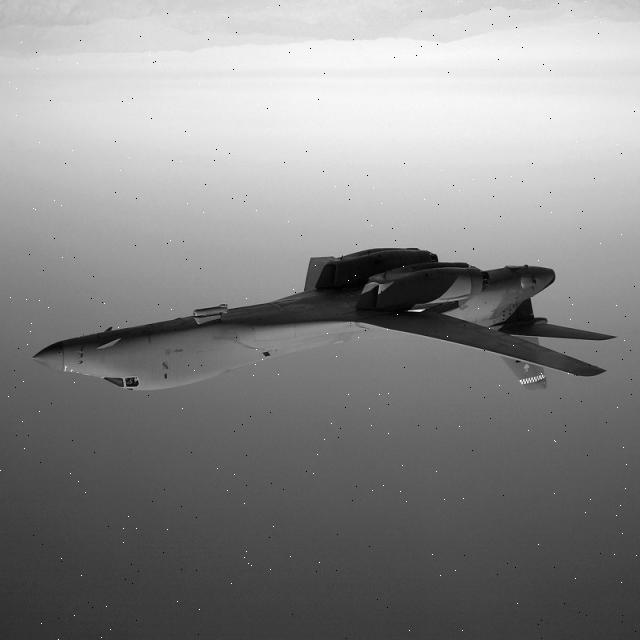B1: (21, 235, 623, 462)
